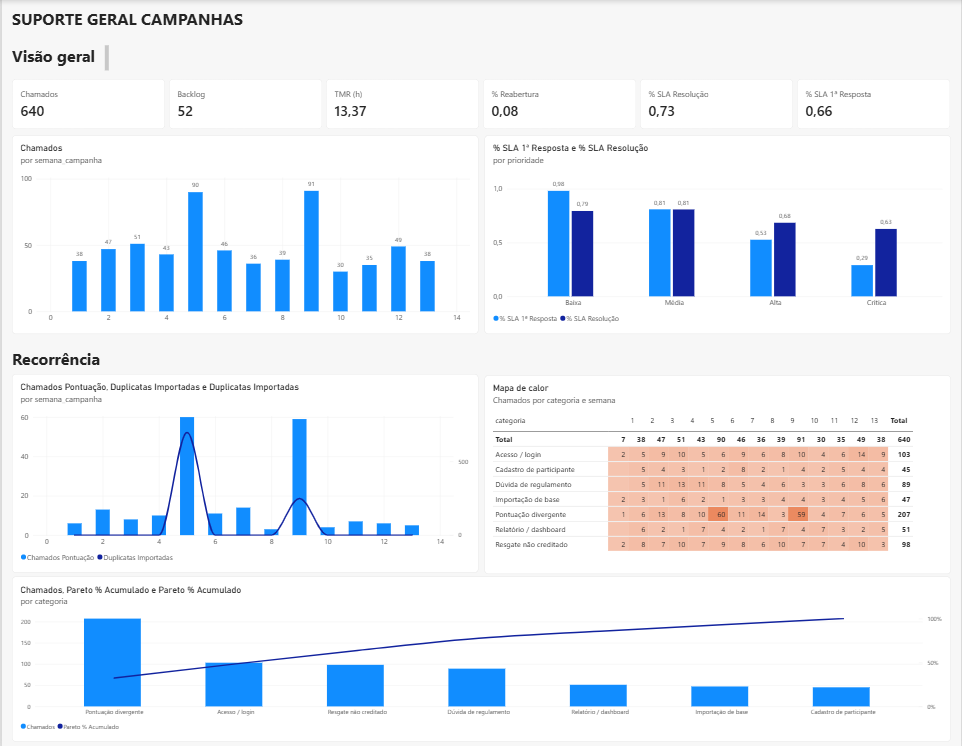

The page's visual inventory and layout, read from the dashboard file:
{"tool":"powerbi","page":{"name":"Página 1","canvas":[1920,1500],"ordinal":0},"visuals":[{"type":"cardVisual","fields":{"Data":["_Medidas.Chamados","_Medidas.Backlog","_Medidas.TMR (h)","_Medidas.% Reabertura","_Medidas.% SLA Resolução","_Medidas.% SLA 1ª Resposta"]},"box":[20,160.6,1877.5,100],"z":0},{"type":"clusteredColumnChart","fields":{"Category":["dCalendario.semana_campanha"],"Y":["_Medidas.Chamados"]},"box":[20.1,273.2,933.2,397.4],"z":1000},{"type":"clusteredColumnChart","fields":{"Category":["dPrioridade.prioridade"],"Y":["_Medidas.% SLA 1ª Resposta","_Medidas.% SLA Resolução"]},"box":[964.4,273.2,933.2,397.4],"z":2000},{"type":"textbox","box":[20.9,92.3,193.3,55],"z":3000},{"type":"lineClusteredColumnComboChart","fields":{"Category":["dCalendario.semana_campanha"],"Y":["_Medidas.Chamados Pontuação"],"Y2":["_Medidas.Duplicatas Importadas"]},"box":[20,750,932.5,397.5],"z":4000},{"type":"textbox","box":[18.9,696.3,264.3,54.3],"z":5000},{"type":"textbox","box":[20.1,17.6,691.2,47.8],"z":6000},{"type":"lineClusteredColumnComboChart","fields":{"Category":["fChamados.categoria"],"Y":["_Medidas.Chamados"],"Y2":["_Medidas.Pareto % Acumulado"]},"box":[20,1155,1877.5,330],"z":7000},{"type":"pivotTable","title":"Mapa de calor","fields":{"Columns":["dCalendario.semana_campanha"],"Rows":["fChamados.categoria"],"Values":["_Medidas.Chamados"]},"box":[965,752.5,932.5,397.5],"z":8000}]}

Visuals, with their boxes in screenshot pixels (x1, y1, x2, y2), scaled from the page's 1920x1500 canvas onto the 962x746 screenshot:
cardVisual - _Medidas.Chamados x _Medidas.Backlog: 10,80,951,130
clusteredColumnChart - dCalendario.semana_campanha x _Medidas.Chamados: 10,136,478,334
clusteredColumnChart - dPrioridade.prioridade x _Medidas.% SLA 1ª Resposta: 483,136,951,334
textbox: 10,46,107,73
lineClusteredColumnComboChart - dCalendario.semana_campanha x _Medidas.Chamados Pontuação: 10,373,477,571
textbox: 9,346,142,373
textbox: 10,9,356,33
lineClusteredColumnComboChart - fChamados.categoria x _Medidas.Chamados: 10,574,951,739
"Mapa de calor" pivotTable: 484,374,951,572
